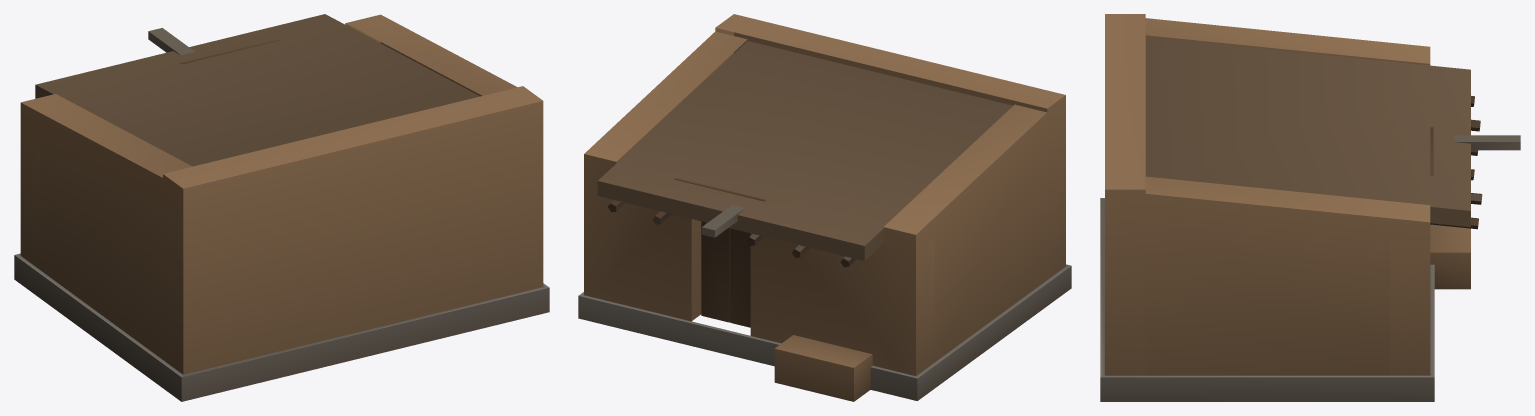
The model's file is casa_rancho_c_lod.glb.
The picture shows the model from 3 angles, left to right: view 1: azimuth 30°, elevation 25°; view 2: azimuth 150°, elevation 25°; view 3: azimuth 270°, elevation 25°; orthographic projection. The views are drawn at different scales.
Visible parts, largest first — view 1: casa_rancho_c; view 2: casa_rancho_c; view 3: casa_rancho_c.
Part boxes in pixels (left/top/right/bottom): casa_rancho_c: left=14, top=14, right=549, bottom=401; casa_rancho_c: left=578, top=14, right=1071, bottom=401; casa_rancho_c: left=1100, top=14, right=1520, bottom=401.
Size of the model in its own units: 4.7 by 2.57 by 4.65.
